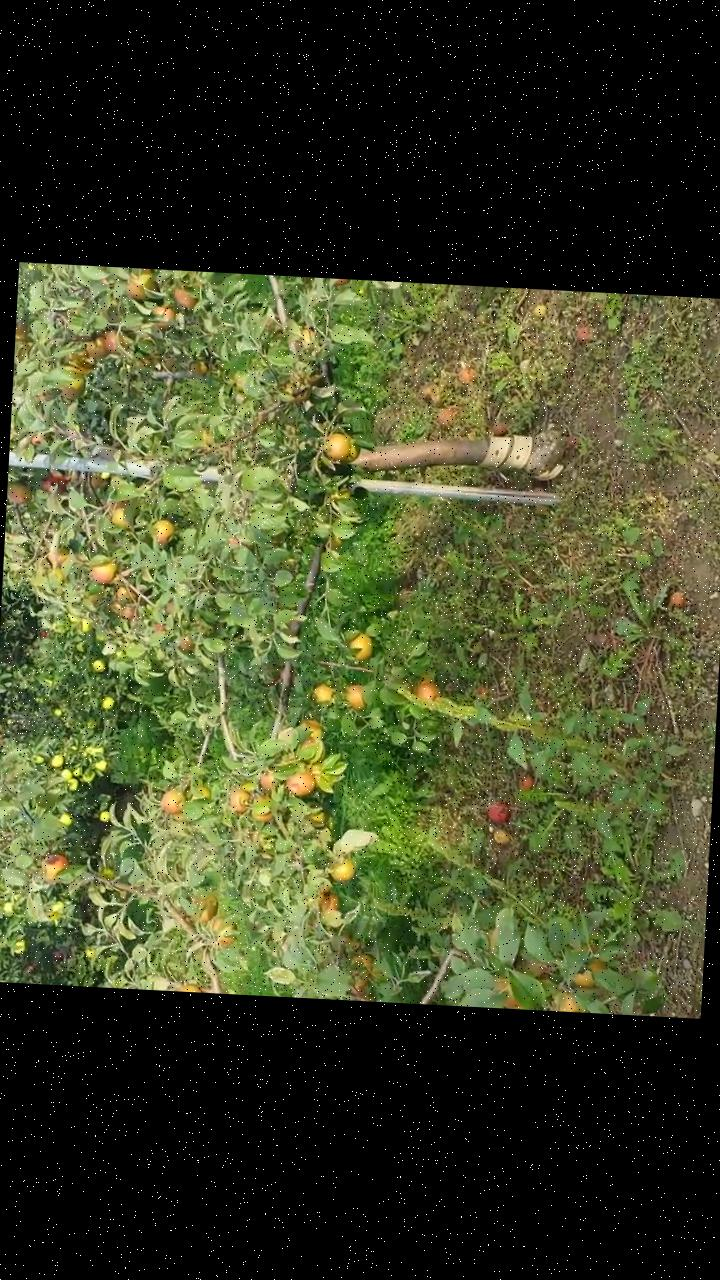Apple: (346, 952, 371, 992), (343, 631, 374, 660), (210, 916, 236, 949), (190, 894, 216, 924), (284, 772, 314, 798), (320, 433, 350, 459), (38, 852, 65, 879), (89, 559, 117, 584), (6, 480, 30, 508), (159, 787, 184, 813), (346, 681, 368, 710), (330, 857, 354, 881), (152, 306, 177, 329), (170, 286, 195, 308), (46, 544, 68, 568), (60, 377, 84, 398), (297, 718, 322, 738), (40, 473, 66, 492), (102, 327, 121, 353), (151, 518, 172, 541), (229, 786, 249, 810), (415, 680, 438, 700), (86, 336, 106, 358), (318, 892, 340, 912), (306, 684, 332, 700), (256, 768, 274, 791), (106, 506, 126, 526), (124, 278, 144, 298), (306, 808, 326, 828), (340, 442, 360, 462), (175, 634, 196, 652), (304, 761, 320, 784), (250, 806, 276, 820), (173, 980, 200, 991), (185, 360, 206, 374), (15, 319, 27, 342), (296, 737, 317, 750), (120, 603, 132, 618), (29, 436, 44, 446)
